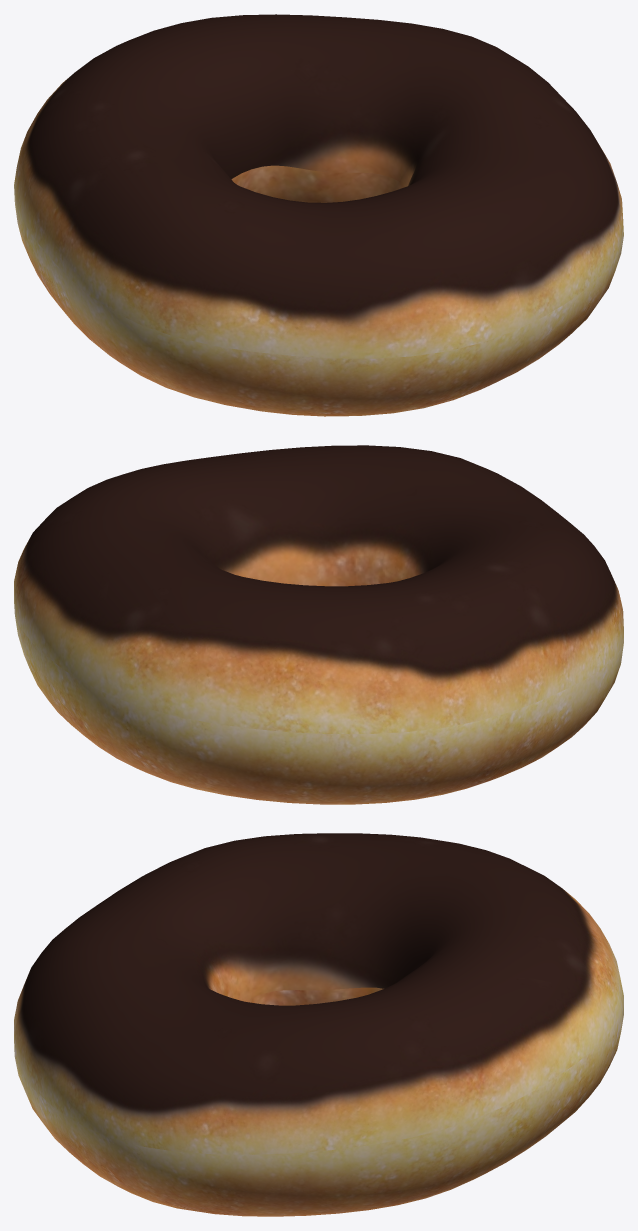
File: Donut6.obj
The picture shows the model from 3 angles, top to bottom: view 1: azimuth 30°, elevation 25°; view 2: azimuth 150°, elevation 25°; view 3: azimuth 270°, elevation 25°; orthographic projection.
Parts seen in each view (by area): view 1: donut079; view 2: donut079; view 3: donut079.
Boxes of the visible parts, x1,y1,x2,y2 form: donut079: (14, 14, 623, 416); donut079: (14, 445, 623, 804); donut079: (14, 833, 623, 1216).
Size of the model in its own units: 9.35 by 3.88 by 9.66.
1 material, 1 textured.
